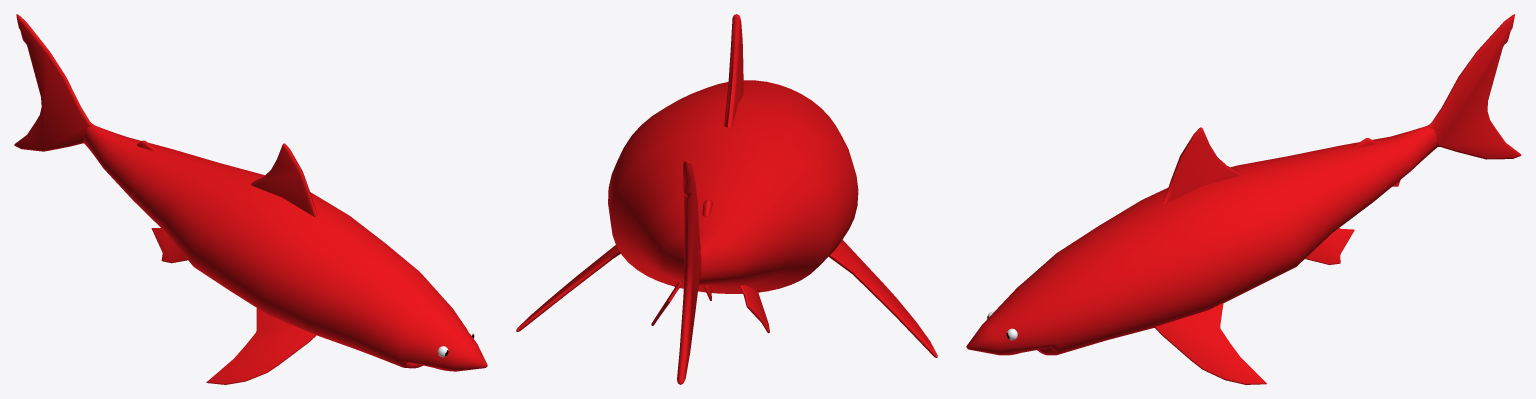
Rendered from red-shark.glb.
3 views of the same model, side by side, from view 1: azimuth 30°, elevation 25°; view 2: azimuth 150°, elevation 25°; view 3: azimuth 270°, elevation 25° (orthographic). The views are drawn at different scales.
Parts seen in each view (by area): view 1: Jaws.003, Vert.022, Vert.018, Vert.023, Vert.019; view 2: Jaws.003, Vert.018, Vert.022, Vert.023, Vert.019; view 3: Jaws.003, Vert.022, Vert.018, Vert.023, Vert.019.
Boxes of the visible parts, <box> form: Jaws.003: <box>83,125,487,371</box>; Vert.022: <box>14,14,93,151</box>; Vert.018: <box>206,308,316,384</box>; Vert.023: <box>250,143,317,217</box>; Vert.019: <box>151,228,187,263</box>; Jaws.003: <box>608,80,858,293</box>; Vert.018: <box>516,240,937,357</box>; Vert.022: <box>677,160,701,384</box>; Vert.023: <box>724,14,743,127</box>; Vert.019: <box>651,282,769,333</box>; Jaws.003: <box>966,126,1438,355</box>; Vert.022: <box>1427,14,1521,159</box>; Vert.018: <box>1154,303,1266,384</box>; Vert.023: <box>1163,127,1241,203</box>; Vert.019: <box>1305,228,1354,264</box>.
Bounding box in the file's own units: 1.17 × 1.25 × 2.39.
